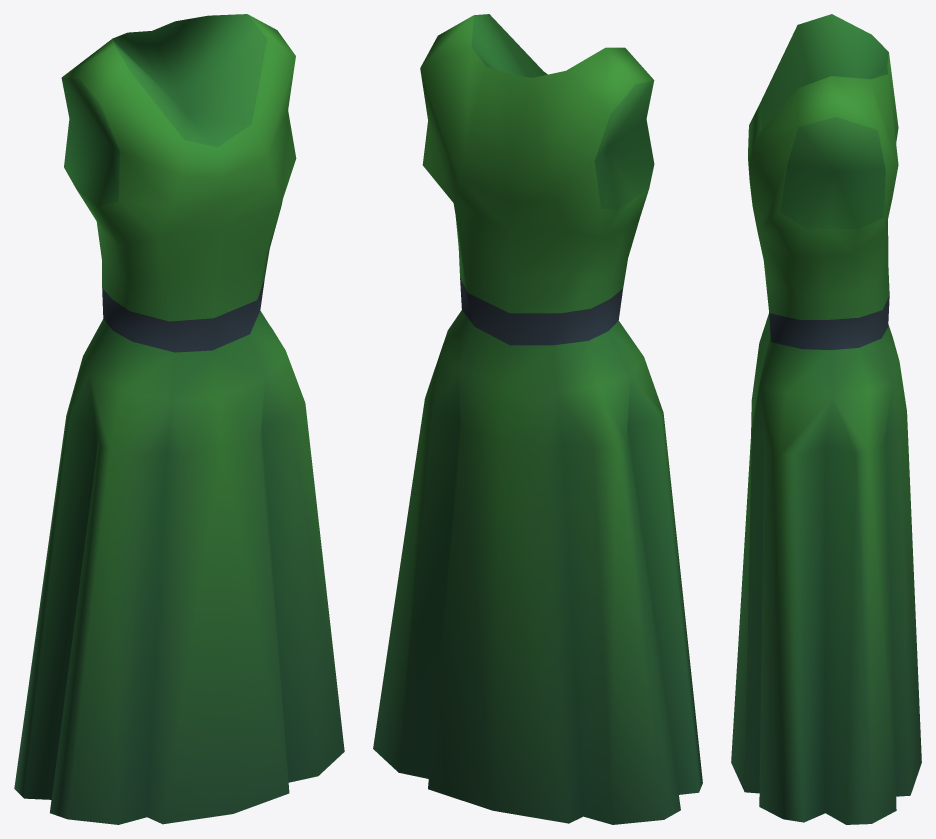
The model's file is human-clothing-dress_v1.glb.
3 renders of one model, left to right at view 1: azimuth 30°, elevation 25°; view 2: azimuth 150°, elevation 25°; view 3: azimuth 270°, elevation 25°, orthographic. The views are drawn at different scales.
Visible parts, largest first — view 1: Dress.001; view 2: Dress.001; view 3: Dress.001.
Part boxes in pixels (x1=…): Dress.001: x1=14, y1=14, x2=344, y2=824; Dress.001: x1=373, y1=14, x2=702, y2=824; Dress.001: x1=731, y1=14, x2=921, y2=824.
Bounding box in the file's own units: 0.5029 × 1.2 × 0.2892.
